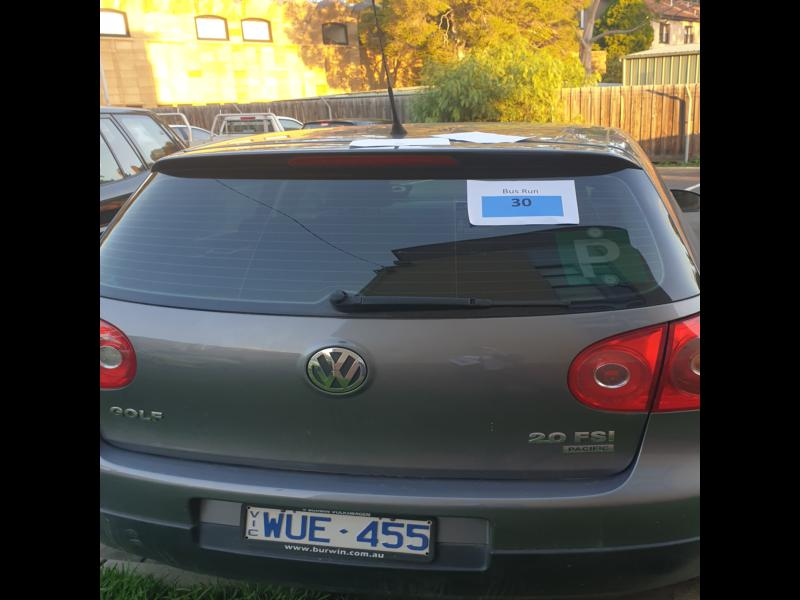BusRun: (481, 193, 564, 219)
PlateNo: (244, 505, 435, 560)
